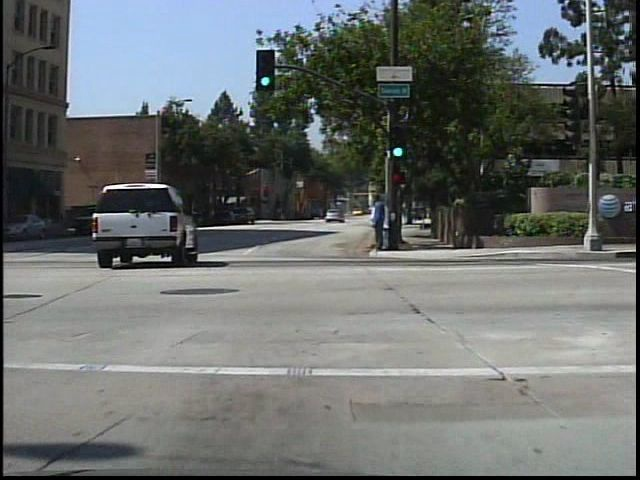person: (366, 191, 388, 252), (375, 195, 393, 250)
